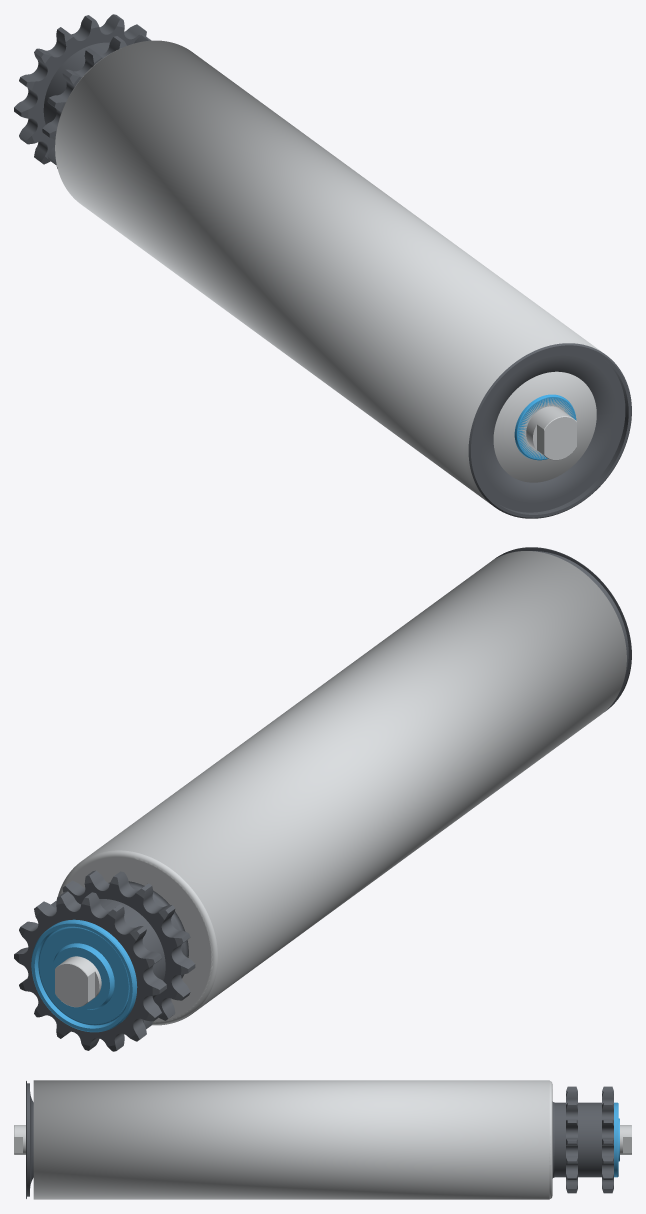
Rendered from MOLTECH_3800_LIGHT_AR_v6.glb.
3 renders of one model, top to bottom at view 1: azimuth 30°, elevation 25°; view 2: azimuth 150°, elevation 25°; view 3: azimuth 270°, elevation 25°, orthographic. The views are drawn at different scales.
Visible parts, largest first — view 1: Palast__zart_belso_test, Fekete__eredeti_lanckerekek, silver_original, rear_blue_original_faces; view 2: Palast__zart_belso_test, Fekete__eredeti_lanckerekek, silver_original, Kek__frikcios_tarcsa; view 3: Palast__zart_belso_test, Fekete__eredeti_lanckerekek, silver_original, Kek__frikcios_tarcsa.
Part boxes in pixels (bbox=[...]): Palast__zart_belso_test: bbox=[55, 40, 602, 504]; Fekete__eredeti_lanckerekek: bbox=[14, 14, 631, 518]; silver_original: bbox=[55, 50, 576, 460]; rear_blue_original_faces: bbox=[514, 394, 576, 460]; Palast__zart_belso_test: bbox=[57, 551, 626, 1025]; Fekete__eredeti_lanckerekek: bbox=[14, 547, 631, 1051]; silver_original: bbox=[55, 850, 217, 1024]; Kek__frikcios_tarcsa: bbox=[31, 919, 137, 1032]; Palast__zart_belso_test: bbox=[33, 1080, 549, 1199]; Fekete__eredeti_lanckerekek: bbox=[26, 1081, 613, 1198]; silver_original: bbox=[14, 1081, 631, 1198]; Kek__frikcios_tarcsa: bbox=[614, 1102, 619, 1177].
Bounding box in the file's own units: 0.0579 × 0.0579 × 0.3.
